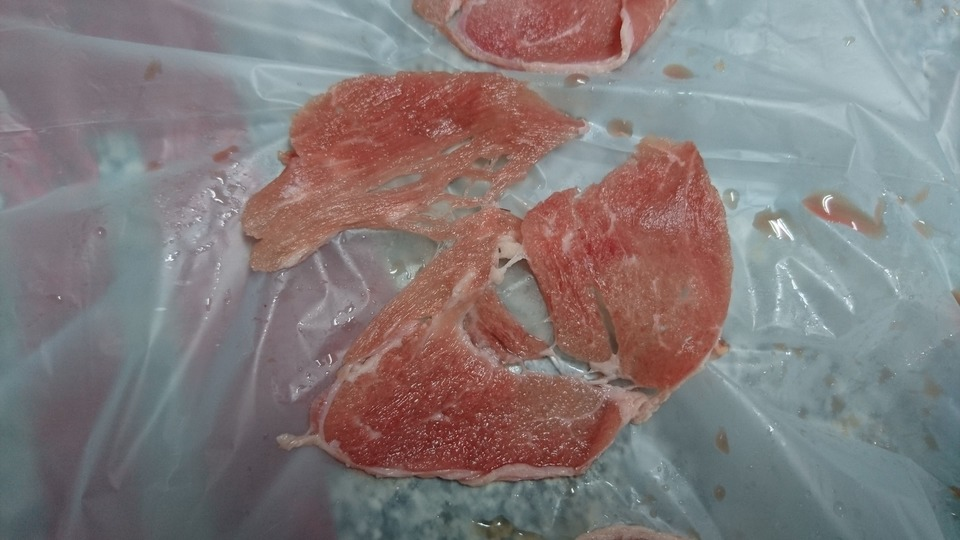restructured meat: (266, 83, 729, 494), (410, 4, 668, 71)
